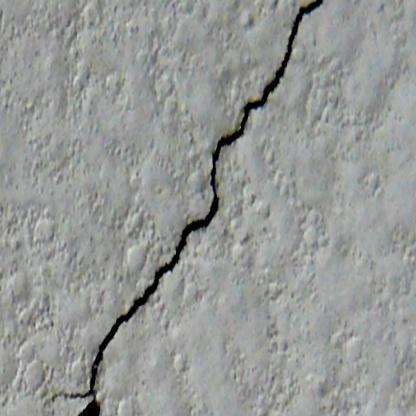Cracks: (48, 0, 330, 416)
